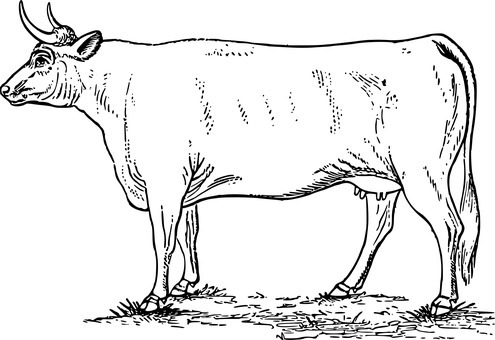cow: (1, 1, 485, 325)
